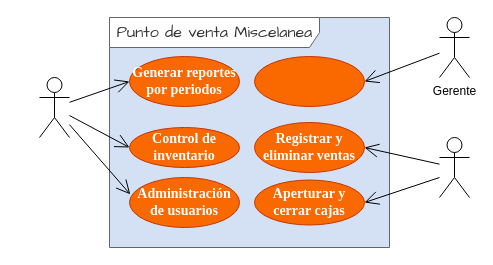
The diagram is 493 pixels wide and 265 high, and some of its shapes have lost their labels. Each missing label, with the centre of its shape:
"Administrador" belongs at (x=54, y=107).
"Cajero" belongs at (x=454, y=167).
"CRUD para inventario" belongs at (x=309, y=81).
